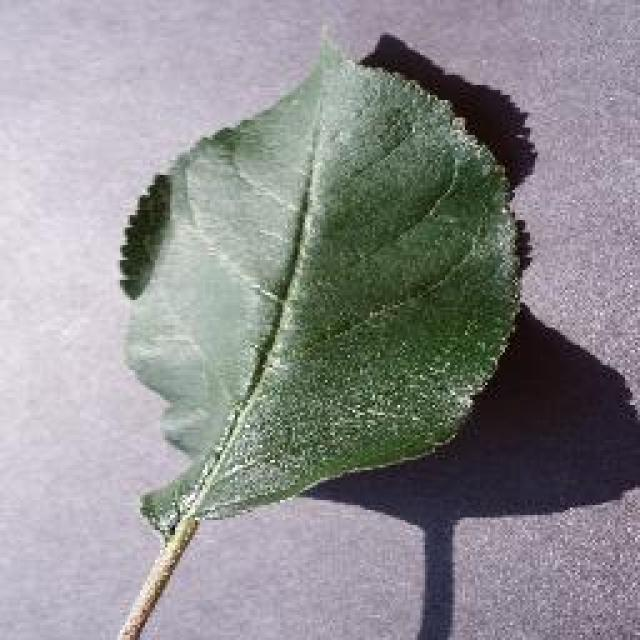apple scab disease: (115, 22, 530, 538)
